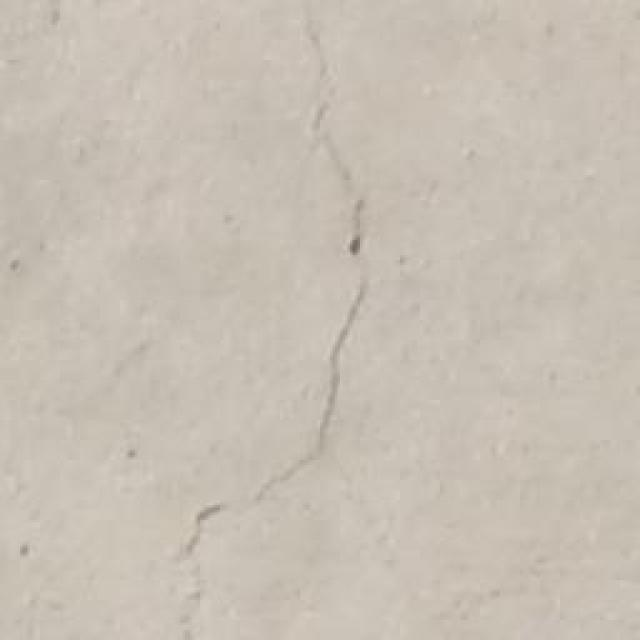concrete-crack: (255, 38, 368, 502), (180, 505, 230, 632)
